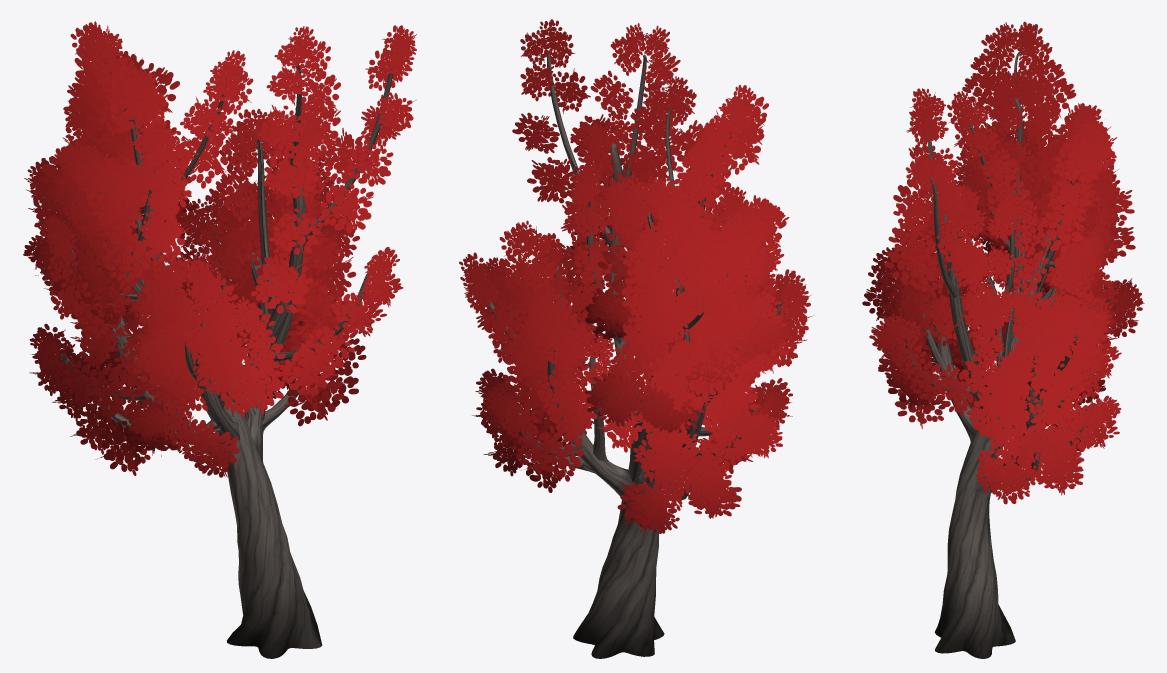
Rendered from TwistedTree_2.glb.
3 views of the same model, side by side, from view 1: azimuth 30°, elevation 25°; view 2: azimuth 150°, elevation 25°; view 3: azimuth 270°, elevation 25° (orthographic). The views are drawn at different scales.
Visible parts, largest first — view 1: TwistedTree_2; view 2: TwistedTree_2; view 3: TwistedTree_2.
Boxes of the visible parts, <box> form: TwistedTree_2: <box>23,21,416,658</box>; TwistedTree_2: <box>459,19,814,658</box>; TwistedTree_2: <box>862,21,1144,658</box>.
Size of the model in its own units: 10.56 by 18.95 by 9.2.
2 materials, 2 textured.
